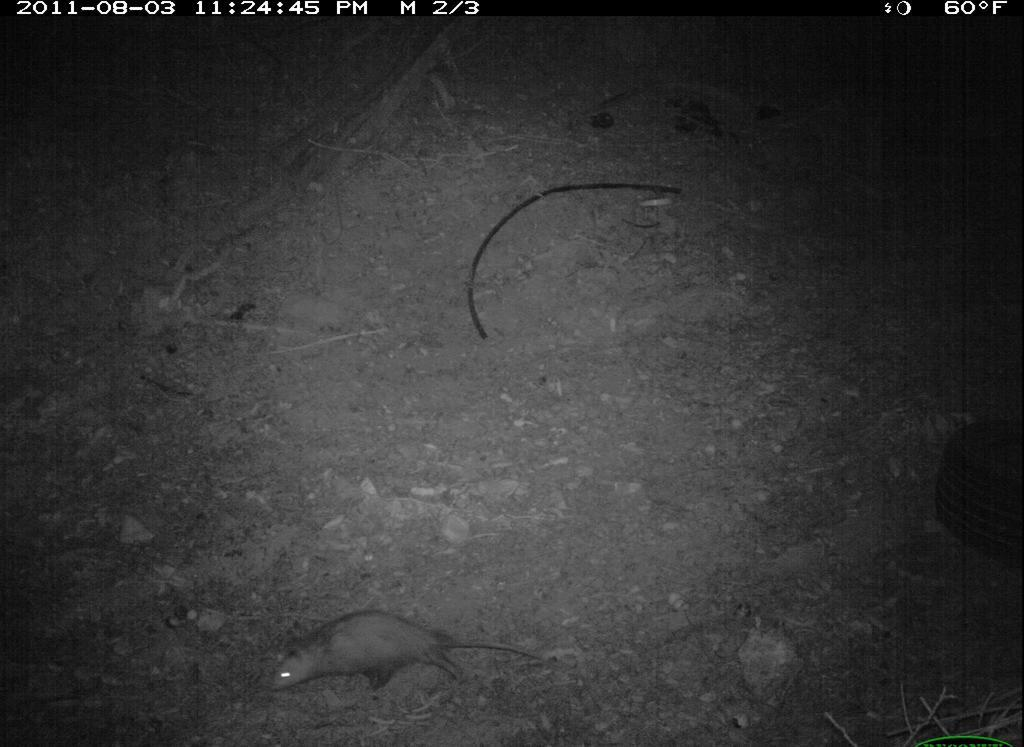opossum: (257, 605, 562, 706)
